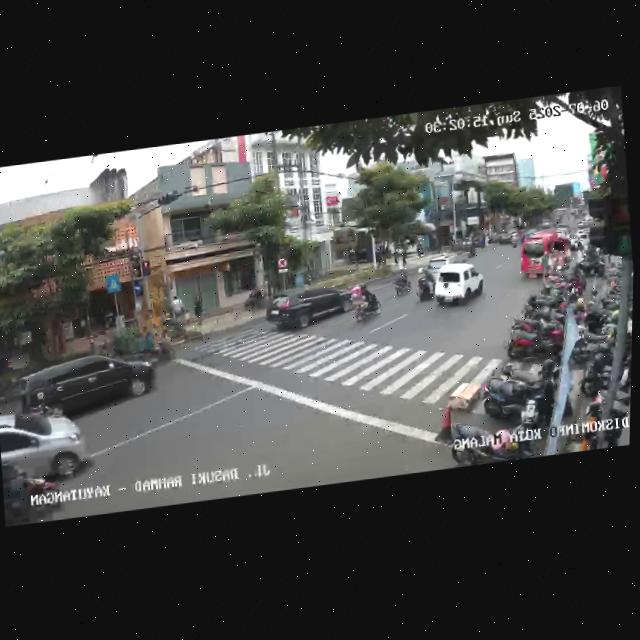car: (5, 344, 158, 429), (0, 412, 88, 518), (267, 280, 351, 337), (517, 229, 574, 283), (428, 260, 487, 312)
motorcycle: (0, 447, 62, 527), (348, 278, 383, 326), (413, 263, 436, 303), (389, 265, 411, 297)
